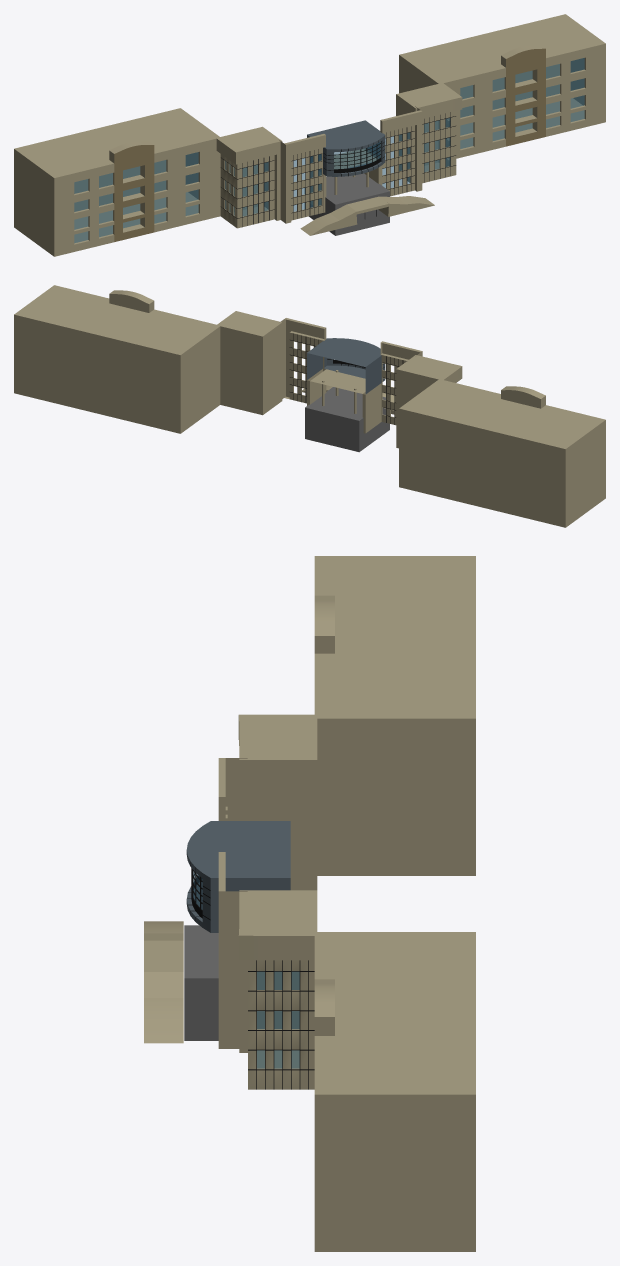
File: 00_tejas_.glb
3 views of the same model, one above another, from view 1: azimuth 30°, elevation 25°; view 2: azimuth 150°, elevation 25°; view 3: azimuth 270°, elevation 25° (orthographic). The views are drawn at different scales.
Parts seen in each view (by area): view 1: pCube2.003, pCube2.002, group1_pCube2.003, group1_pCube2.002, pPlane1.001, pCube4.001, pCube3.001; view 2: pCube2.002, pCube2.003, group1_pCube2.002, pPlane1.001, group1_pCube2.003, pCube4.001; view 3: pCube2.002, pCube2.003, group1_pCube2.002, group1_pCube2.003, pPlane1.001, pCube3.001, pCube4.001.
Part boxes in pixels (<box>): pCube2.003: <box>14,108,220,256</box>; pCube2.002: <box>399,14,605,162</box>; group1_pCube2.003: <box>216,126,325,228</box>; group1_pCube2.002: <box>380,83,462,196</box>; pPlane1.001: <box>307,120,385,212</box>; pCube4.001: <box>309,173,389,235</box>; pCube3.001: <box>300,196,434,235</box>; pCube2.002: <box>14,285,220,433</box>; pCube2.003: <box>399,379,605,527</box>; group1_pCube2.002: <box>217,311,326,415</box>; pPlane1.001: <box>307,338,385,433</box>; group1_pCube2.003: <box>380,341,462,448</box>; pCube4.001: <box>305,387,389,452</box>; pCube2.002: <box>314,932,475,1251</box>; pCube2.003: <box>314,556,475,875</box>; group1_pCube2.002: <box>218,852,317,1089</box>; group1_pCube2.003: <box>218,714,317,890</box>; pPlane1.001: <box>186,821,290,932</box>; pCube3.001: <box>144,921,183,1043</box>; pCube4.001: <box>184,925,218,1040</box>.
Bounding box in the file's own units: 5.61 × 1.04 × 1.46.
9 materials, 1 textured.
